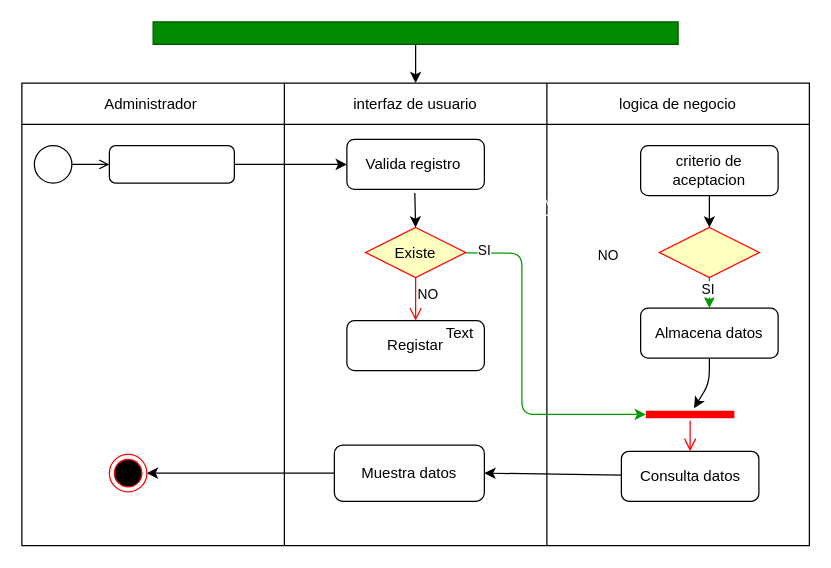
This 831x568 diagram has some shape labels left out. Here are the shapes that lost their labels. From the top down, the centre of each, then its label:
At point 415,32: "DAA.2.1. MUESTRA y REGISTRO DATOS ADMINISTRADOR->EMPLEADO".
At point 171,163: "Ingresa empleado".
At point 708,252: "Aceptado".
